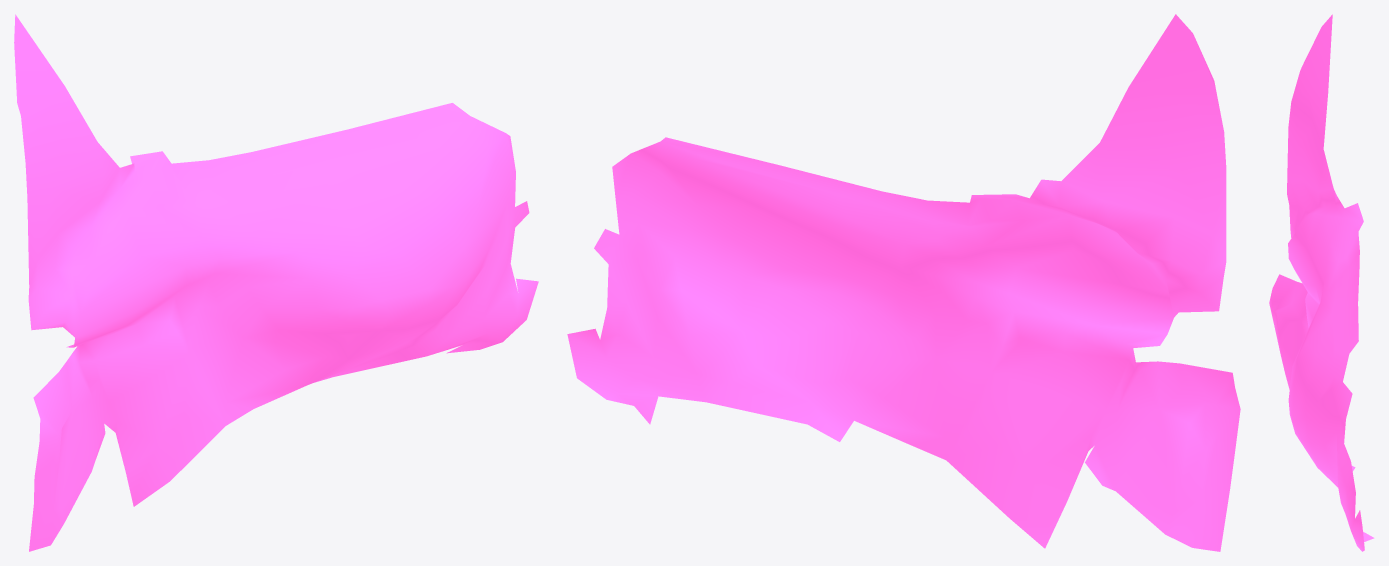
Rendered from headliner_brutalizer.glb.
The picture shows the model from 3 angles, left to right: view 1: azimuth 30°, elevation 25°; view 2: azimuth 150°, elevation 25°; view 3: azimuth 270°, elevation 25°; orthographic projection. The views are drawn at different scales.
Visible parts, largest first — view 1: Headliner brutalizer; view 2: Headliner brutalizer; view 3: Headliner brutalizer.
Boxes of the visible parts, x1,y1,x2,y2 form: Headliner brutalizer: (14,14,538,551); Headliner brutalizer: (567,14,1240,551); Headliner brutalizer: (1269,14,1374,551).
Size of the model in its own units: 3.37 by 3 by 0.7278.
